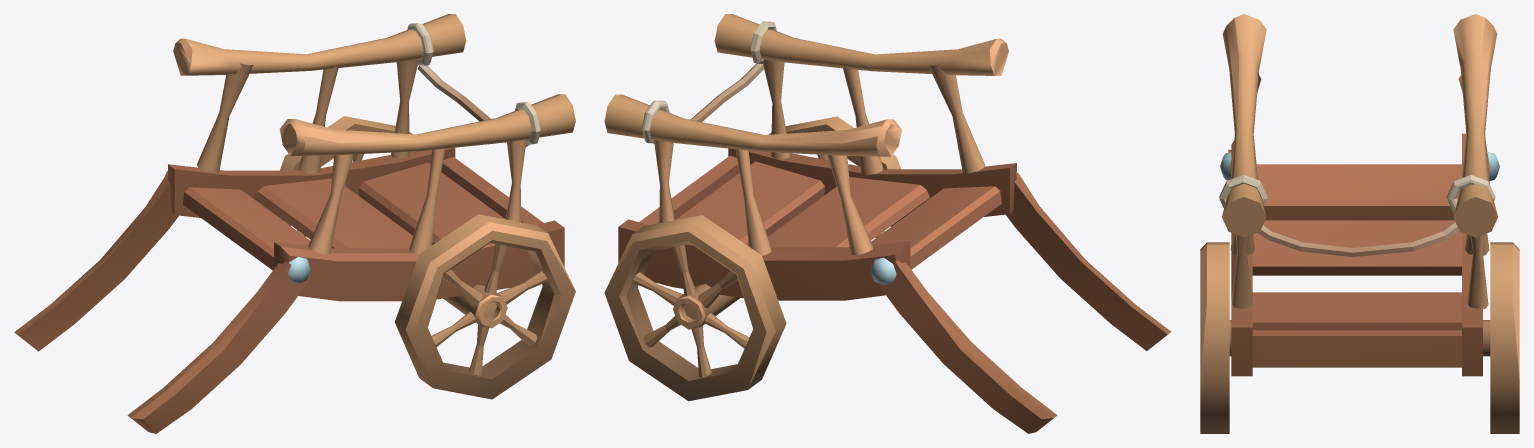
Rendered from cart.glb.
3 views of the same model, side by side, from view 1: azimuth 30°, elevation 25°; view 2: azimuth 150°, elevation 25°; view 3: azimuth 270°, elevation 25° (orthographic). The views are drawn at different scales.
Visible parts, largest first — view 1: cart, Cylinder.022; view 2: cart, Cylinder.022; view 3: cart, Cylinder.022.
Part boxes in pixels (box(x1,y1,x2,y2)): cart: box(14, 14, 575, 433); Cylinder.022: box(280, 116, 575, 399); cart: box(604, 14, 1171, 433); Cylinder.022: box(604, 116, 900, 401); cart: box(1219, 14, 1499, 376); Cylinder.022: box(1200, 242, 1519, 433).
Size of the model in its own units: 5.3 by 3.56 by 3.16.
1 material, 1 textured.
